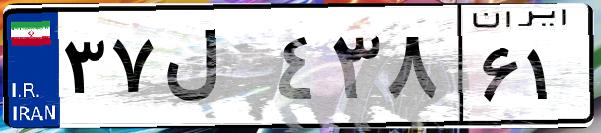1: (525, 38, 570, 115)
3: (330, 28, 385, 110), (57, 26, 110, 100)
4: (270, 28, 330, 110)
6: (475, 38, 525, 113)
7: (110, 28, 158, 98)
8: (385, 28, 445, 110)
ل: (158, 20, 270, 120)
